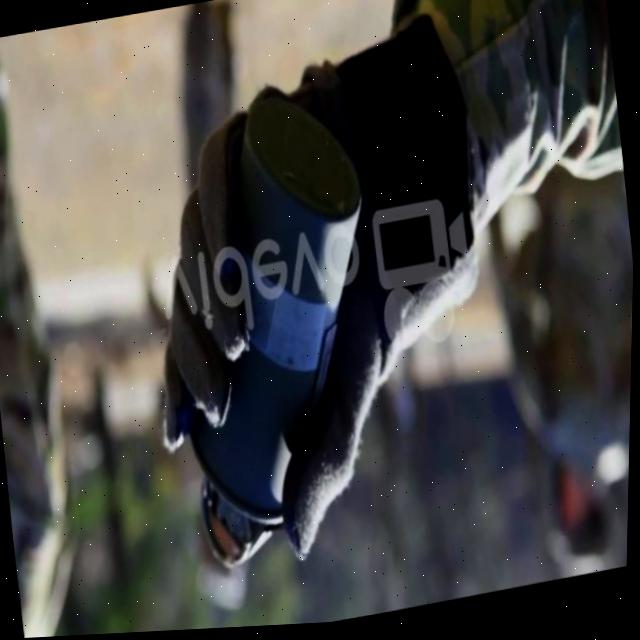grenade: (140, 77, 415, 589)
